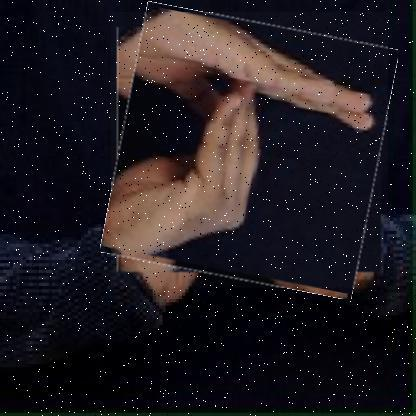Z: (111, 12, 389, 289)
